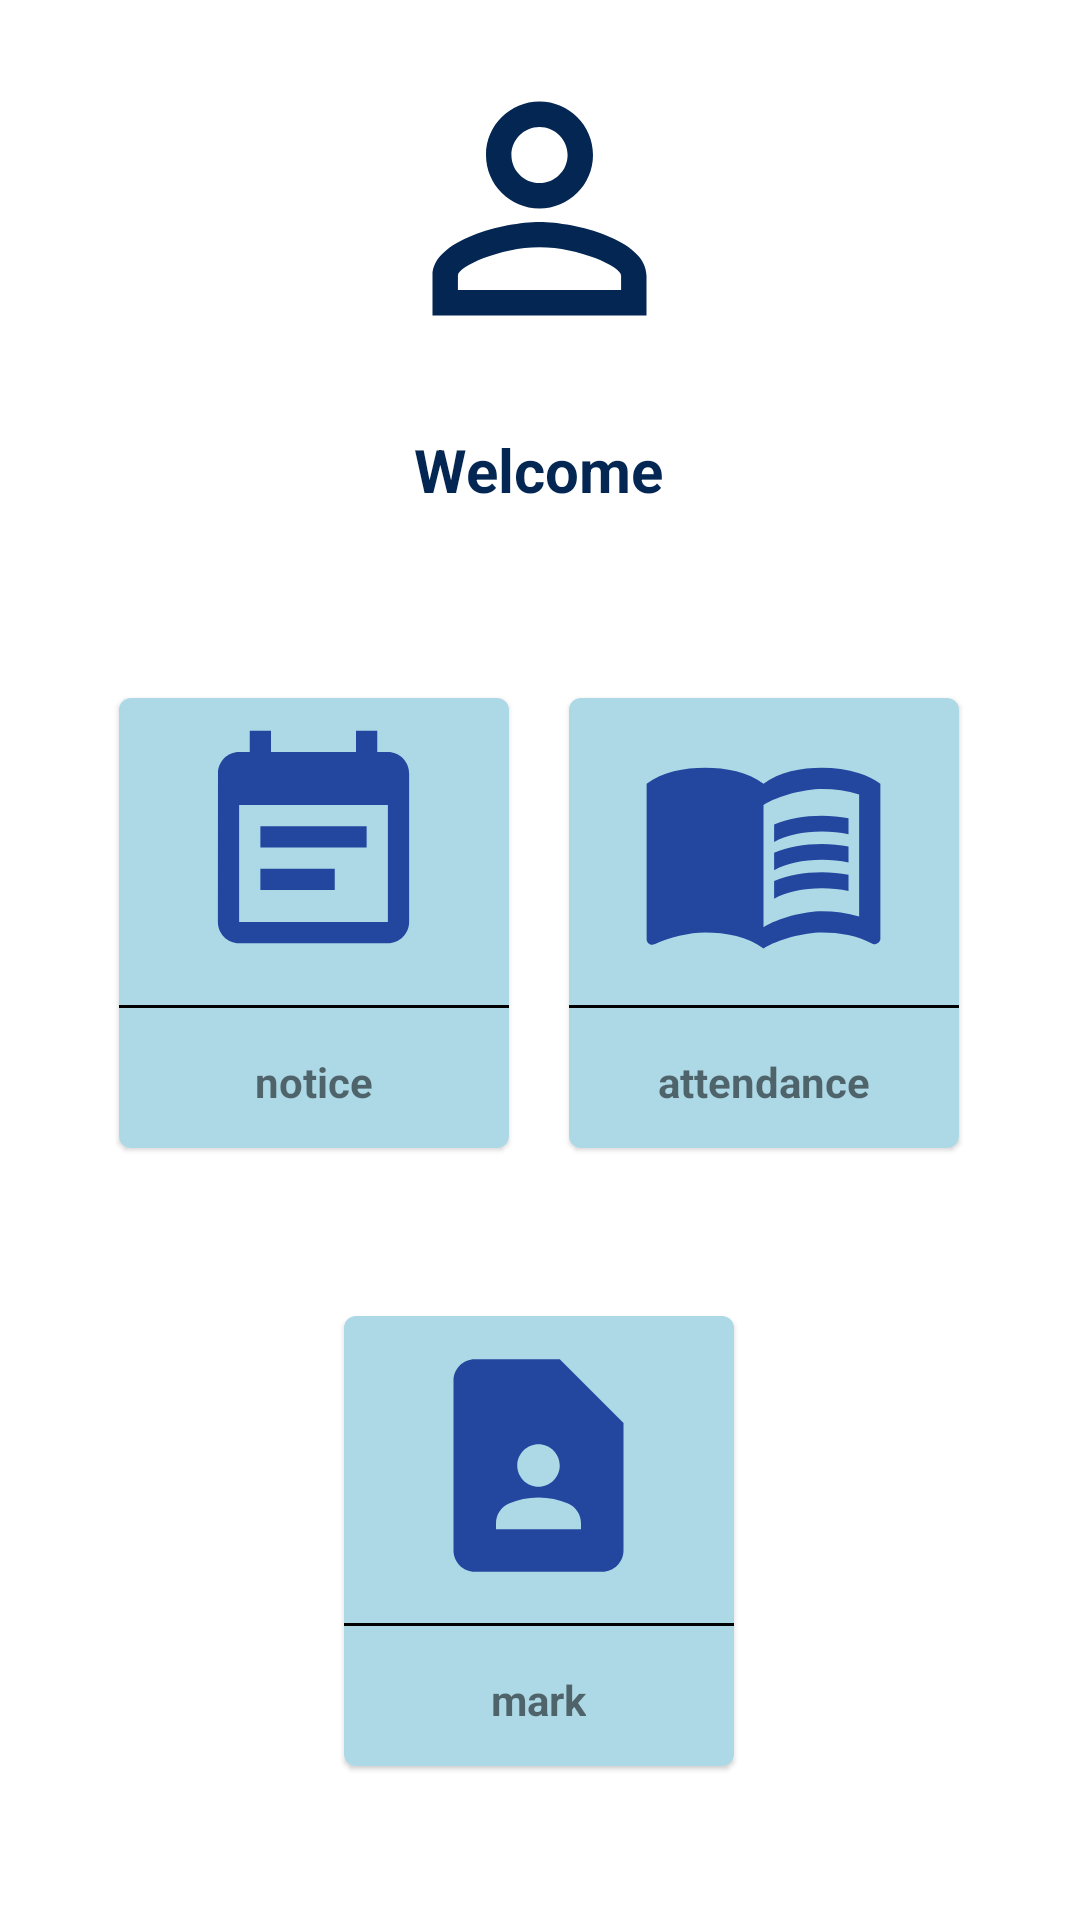

Icons on this 1080*1920 Android screen, each with its box as (x1, y1, x2, y2):
person: (432, 101, 647, 316)
